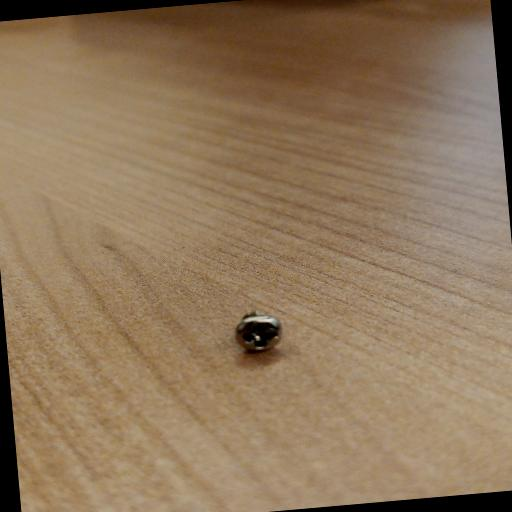Phillips: (222, 306, 290, 360)
